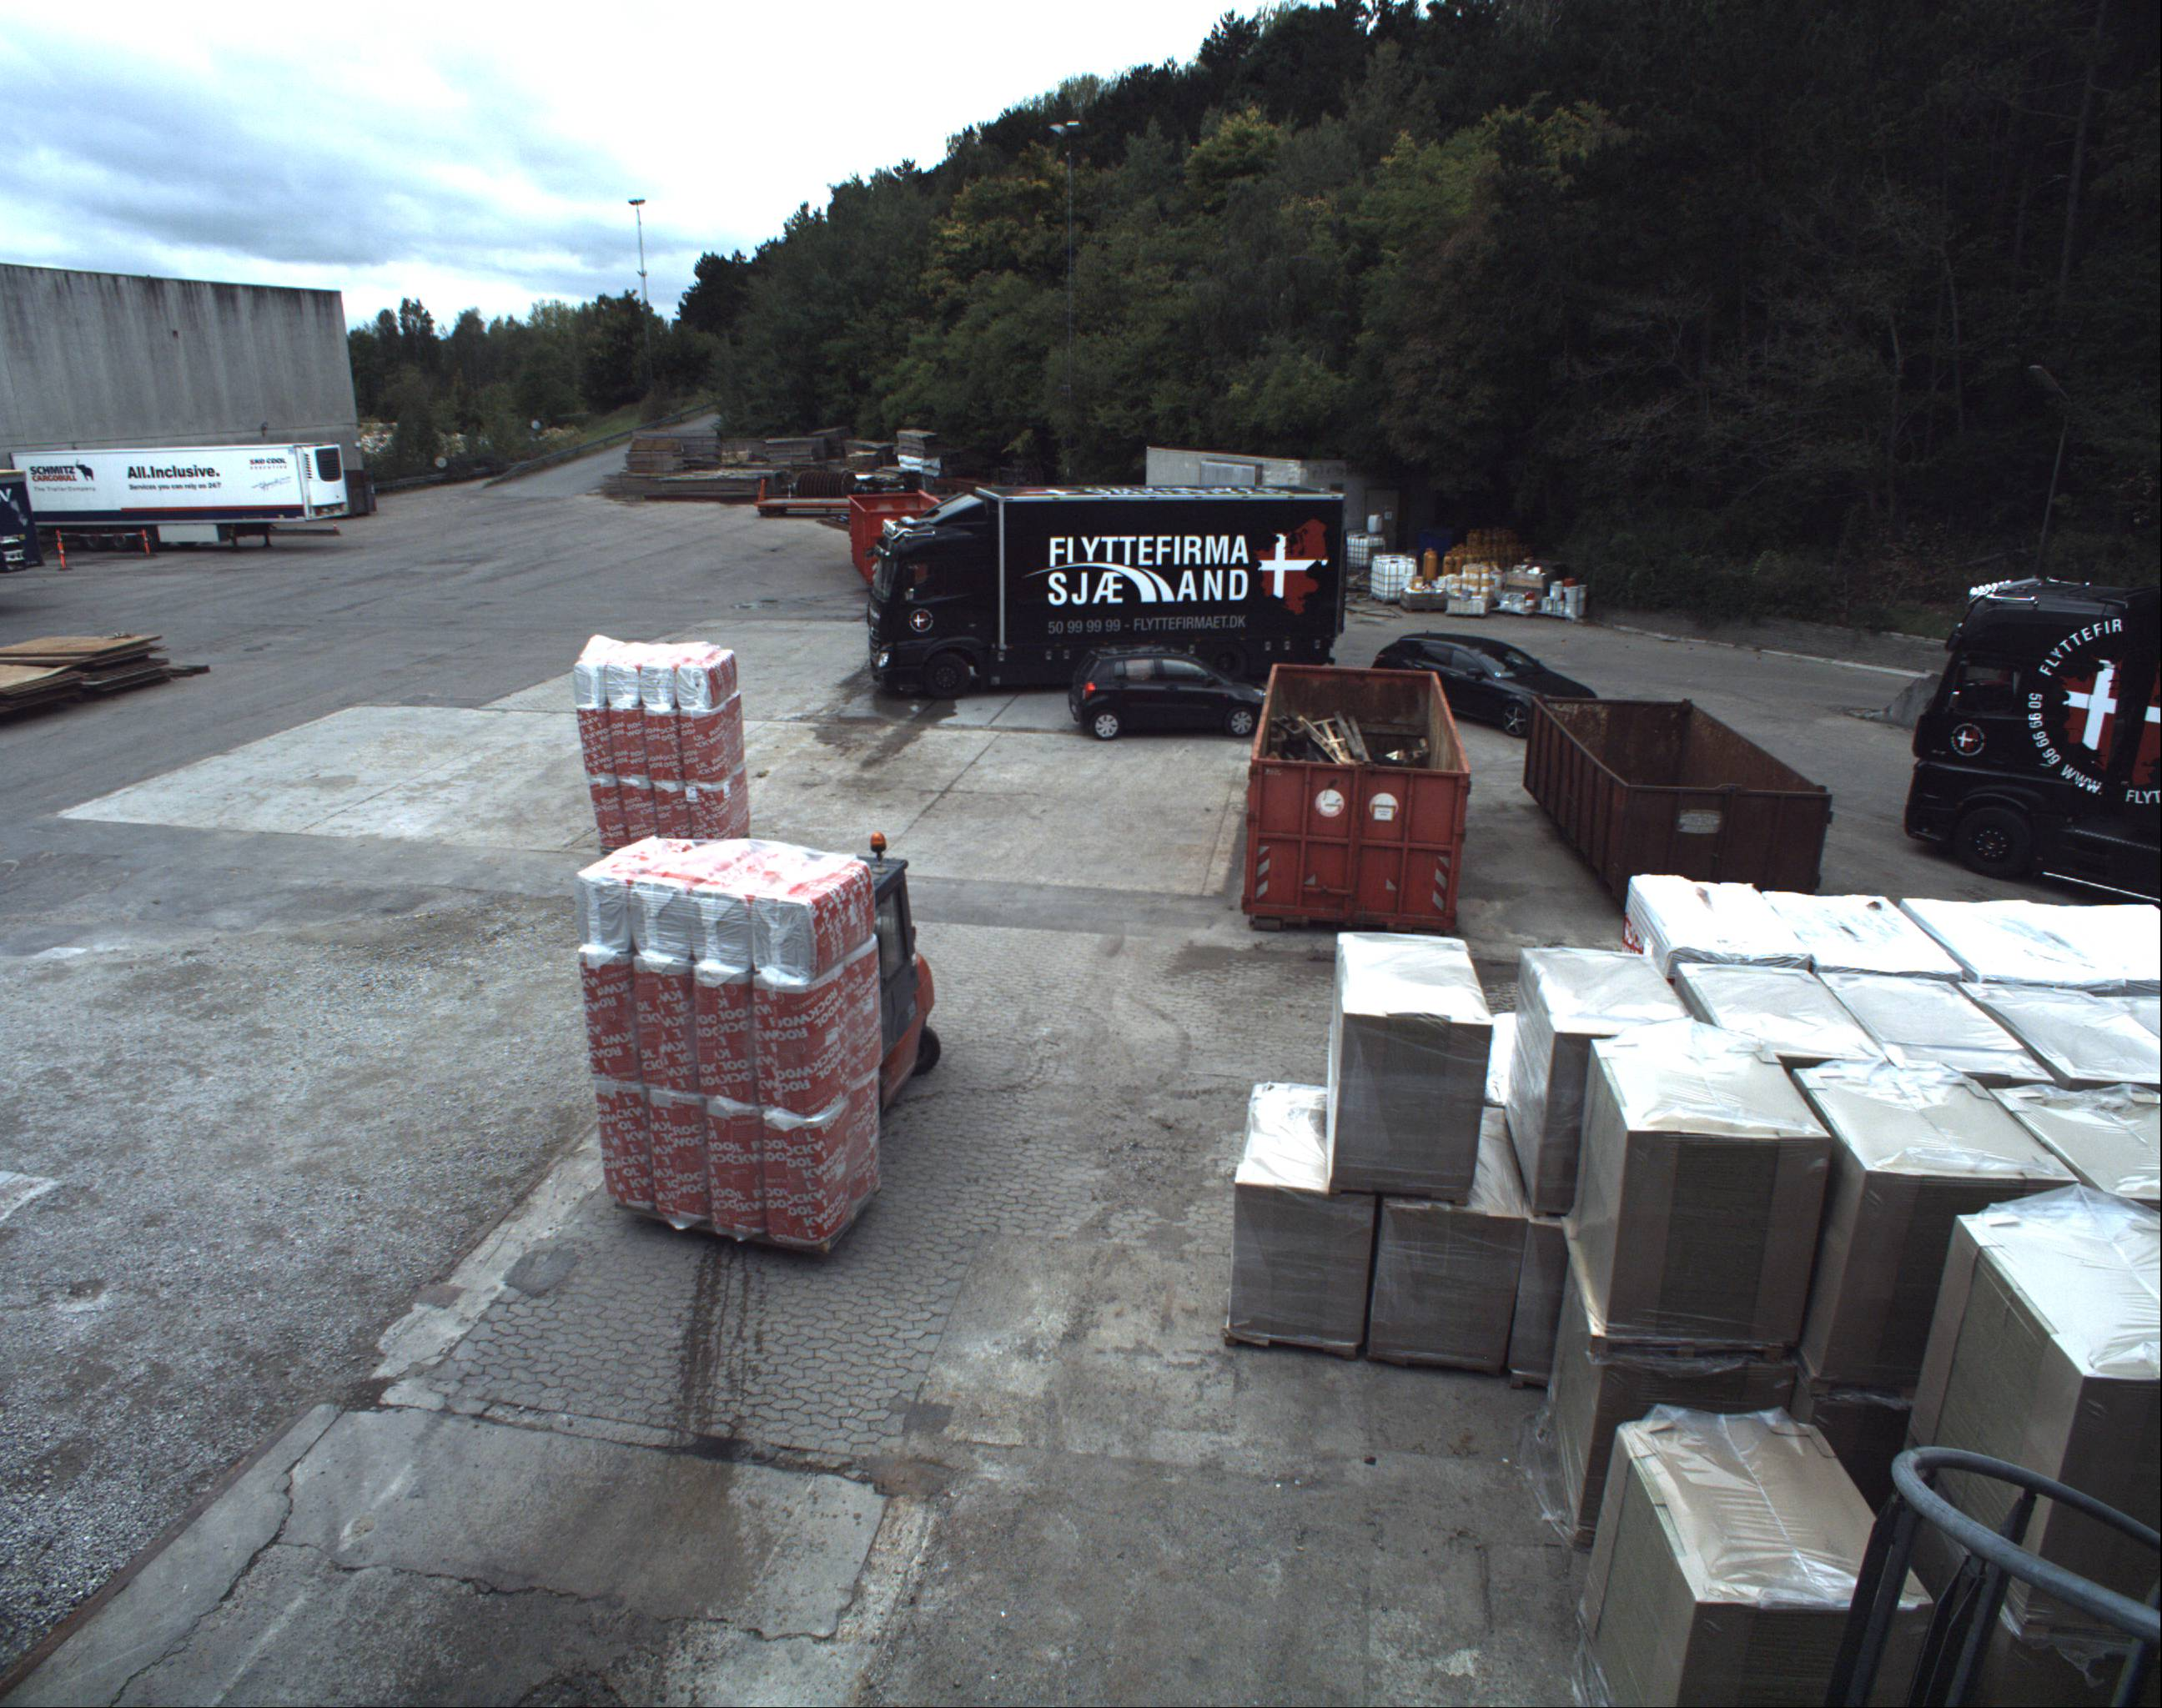rockwool_batts: (591, 820, 874, 1236), (574, 634, 760, 876)
